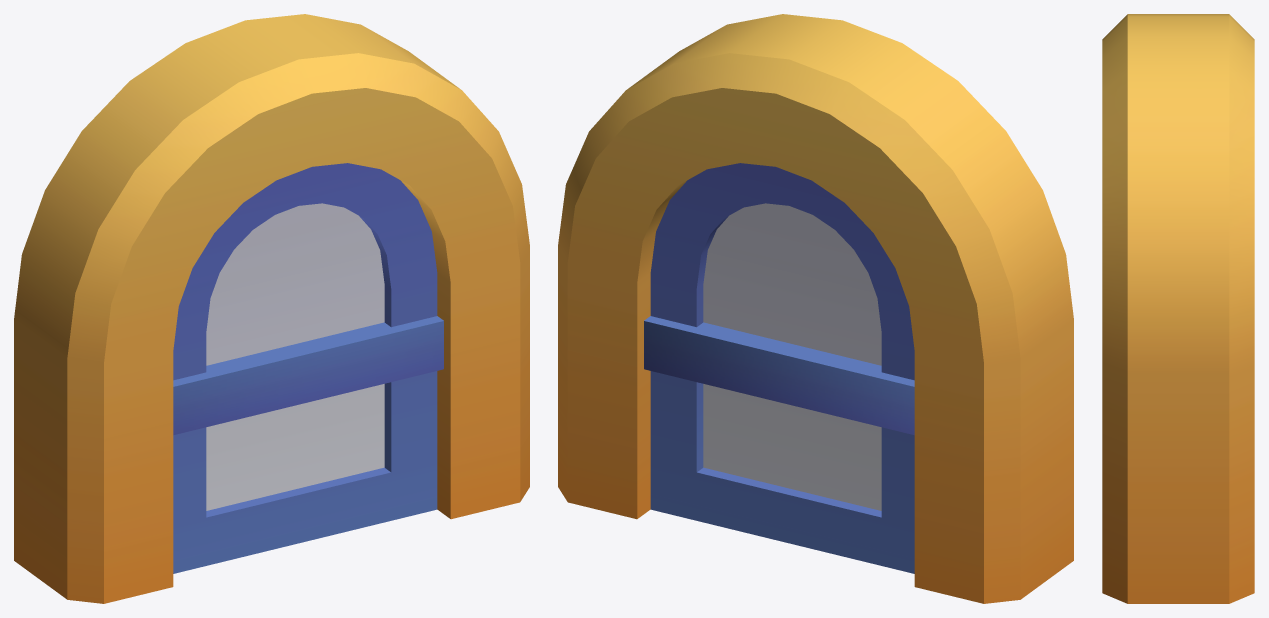
The model's file is kenney-platformer-door-rotate-large.glb.
3 views of the same model, side by side, from view 1: azimuth 30°, elevation 25°; view 2: azimuth 150°, elevation 25°; view 3: azimuth 270°, elevation 25° (orthographic). The views are drawn at different scales.
Visible parts, largest first — view 1: door-rotate-large, door; view 2: door-rotate-large, door; view 3: door-rotate-large.
Boxes of the visible parts, x1=… form: door-rotate-large: x1=14, y1=14, x2=529, y2=603; door: x1=173, y1=163, x2=443, y2=573; door-rotate-large: x1=558, y1=14, x2=1073, y2=603; door: x1=644, y1=163, x2=914, y2=573; door-rotate-large: x1=1102, y1=14, x2=1254, y2=603.
Size of the model in its own units: 1 by 1 by 0.3.
1 material, 1 textured.
